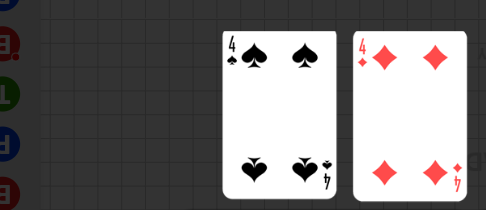4S: (321, 159, 334, 192), (226, 35, 239, 68)
